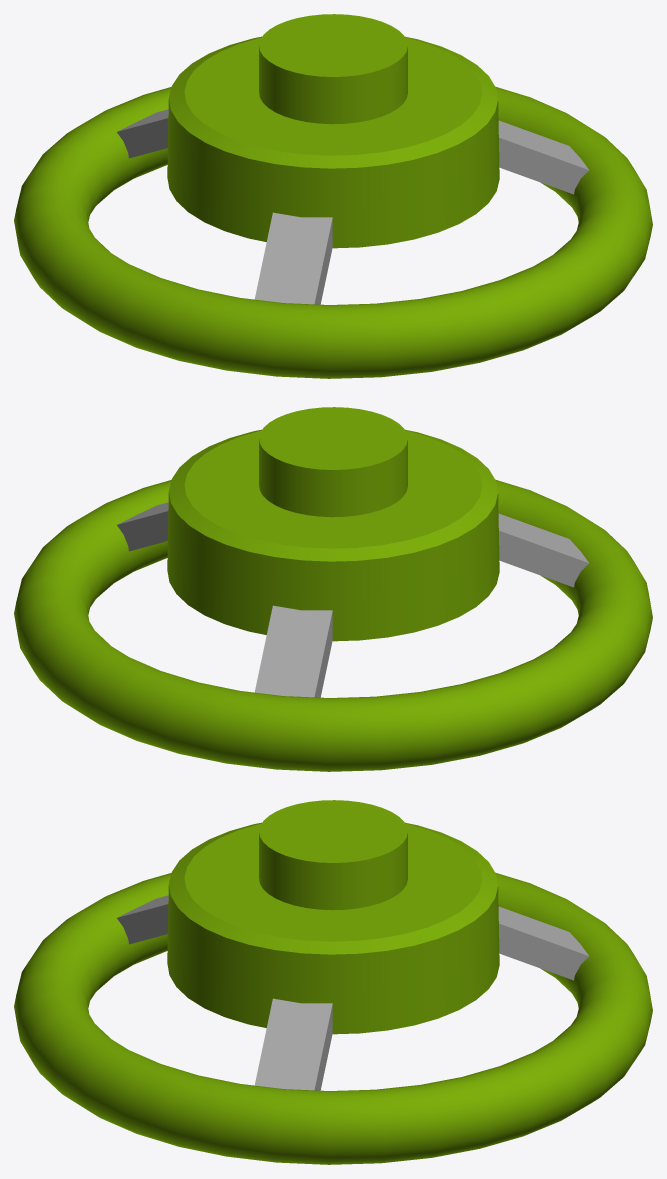
Rendered from Sprinkler_Base.fbx.
3 renders of one model, top to bottom at view 1: azimuth 30°, elevation 25°; view 2: azimuth 150°, elevation 25°; view 3: azimuth 270°, elevation 25°, orthographic.
Parts seen in each view (by area): view 1: Base; view 2: Base; view 3: Base.
Part boxes in pixels (<box>): Base: <box>14,14,652,378</box>; Base: <box>14,407,652,771</box>; Base: <box>14,800,652,1164</box>.
Size of the model in its own units: 17.84 by 6.47 by 17.84.
